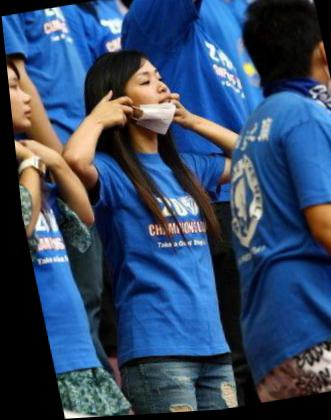NONE: (7, 73, 38, 131)
WRONG: (110, 68, 184, 140)
